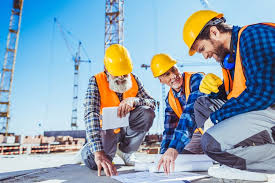epi: (181, 9, 275, 176), (83, 42, 154, 174), (149, 52, 213, 173)
